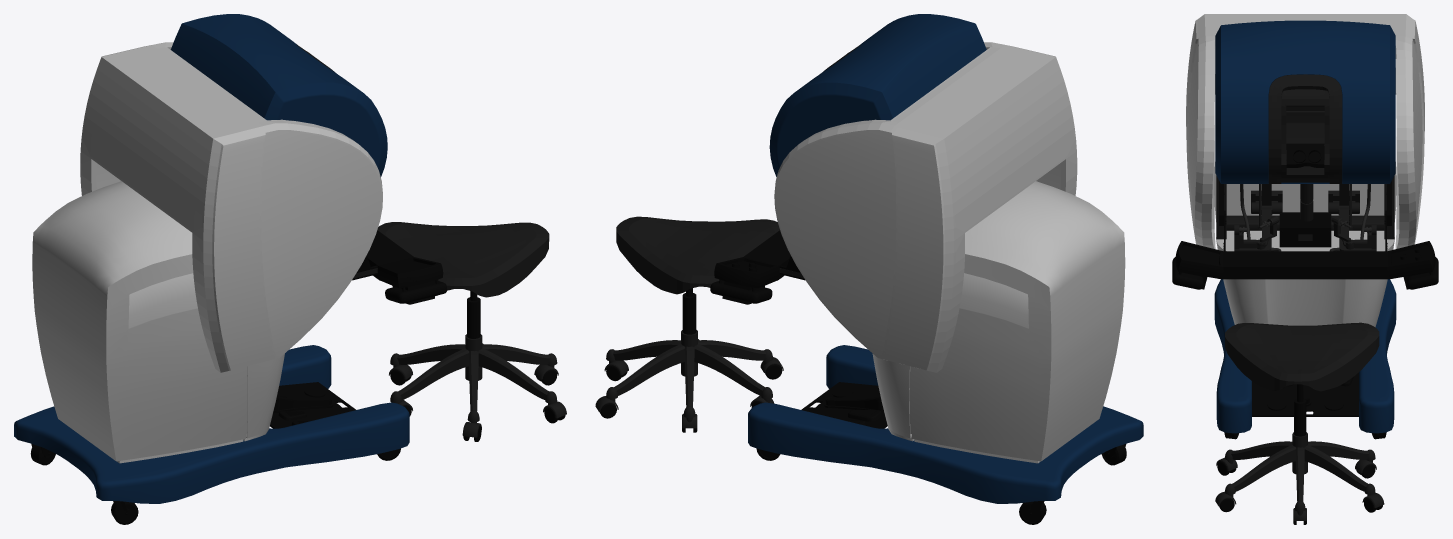
File: Robotic Surgery Controller.FBX
3 renders of one model, left to right at view 1: azimuth 30°, elevation 25°; view 2: azimuth 150°, elevation 25°; view 3: azimuth 270°, elevation 25°, orthographic. The views are drawn at different scales.
Parts seen in each view (by area): view 1: Surgery Controller_Main, Surgery Controller_Stool; view 2: Surgery Controller_Main, Surgery Controller_Stool; view 3: Surgery Controller_Main, Surgery Controller_Stool.
Part boxes in pixels (box(x1,y1,x2,y2)): Surgery Controller_Main: box(14, 14, 447, 524); Surgery Controller_Stool: box(377, 222, 566, 441); Surgery Controller_Main: box(710, 14, 1143, 524); Surgery Controller_Stool: box(595, 216, 783, 432); Surgery Controller_Main: box(1172, 14, 1438, 439); Surgery Controller_Stool: box(1215, 322, 1384, 524).
Size of the model in its own units: 1950 by 1528 by 1006.
